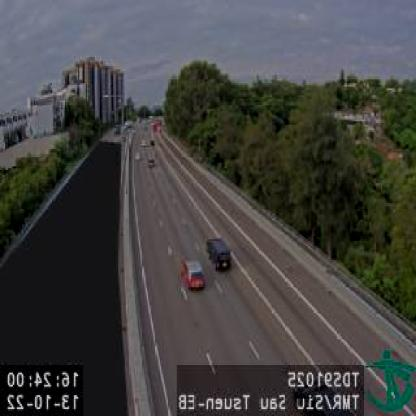Car: (205, 234, 233, 271), (182, 257, 206, 291), (148, 158, 157, 168)
